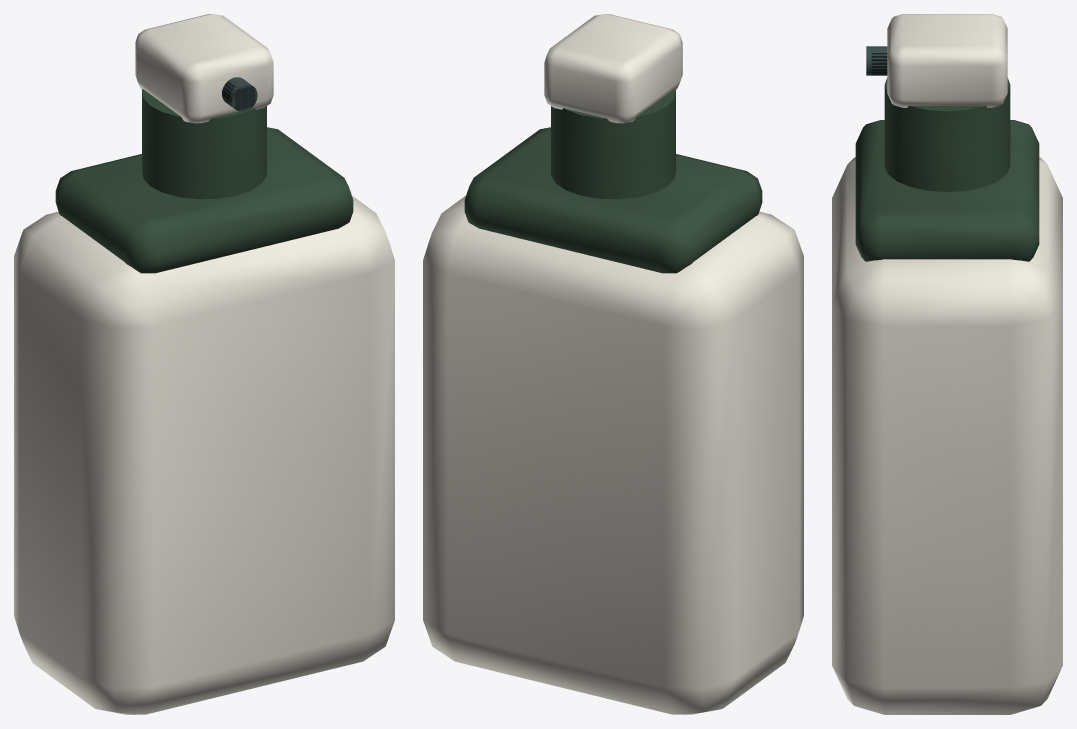
Rendered from Cologne.fbx.
3 views of the same model, side by side, from view 1: azimuth 30°, elevation 25°; view 2: azimuth 150°, elevation 25°; view 3: azimuth 270°, elevation 25° (orthographic).
Visible parts, largest first — view 1: Cologne_Mesh; view 2: Cologne_Mesh; view 3: Cologne_Mesh.
Boxes of the visible parts, box(x1,y1,x2,y2) form: Cologne_Mesh: box(14, 14, 394, 714); Cologne_Mesh: box(423, 14, 803, 714); Cologne_Mesh: box(832, 14, 1062, 714).
Bounding box in the file's own units: 0.068 × 0.1325 × 0.044.
1 material, 1 textured.
